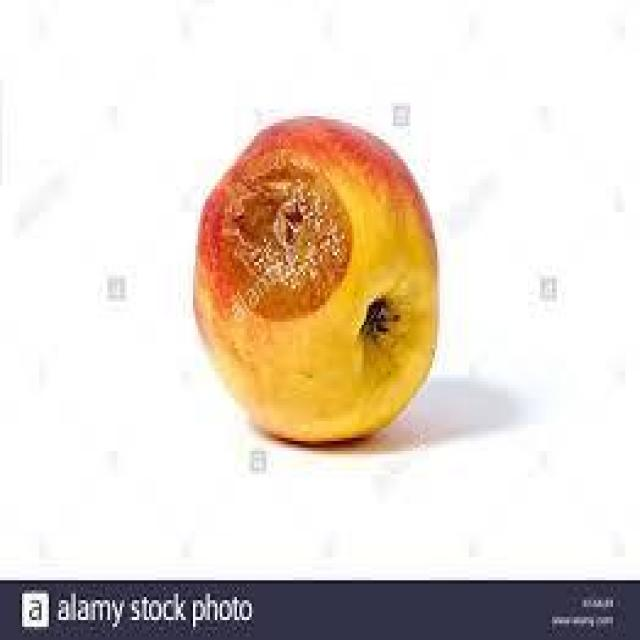maca: (190, 113, 440, 444)
